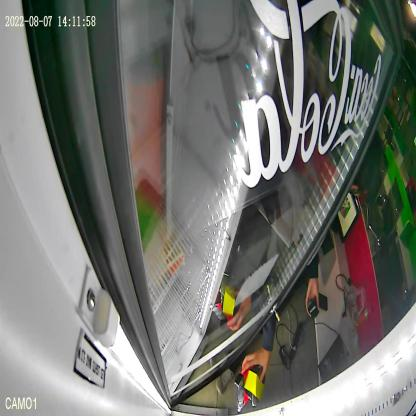red: (234, 366, 255, 414)
yellow: (244, 365, 266, 407)
